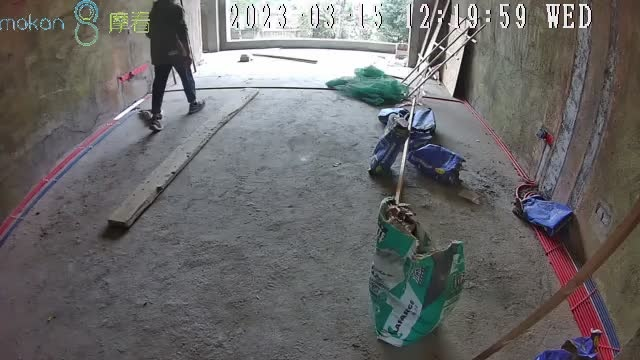people: (147, 1, 206, 131)
window: (225, 1, 412, 46)
